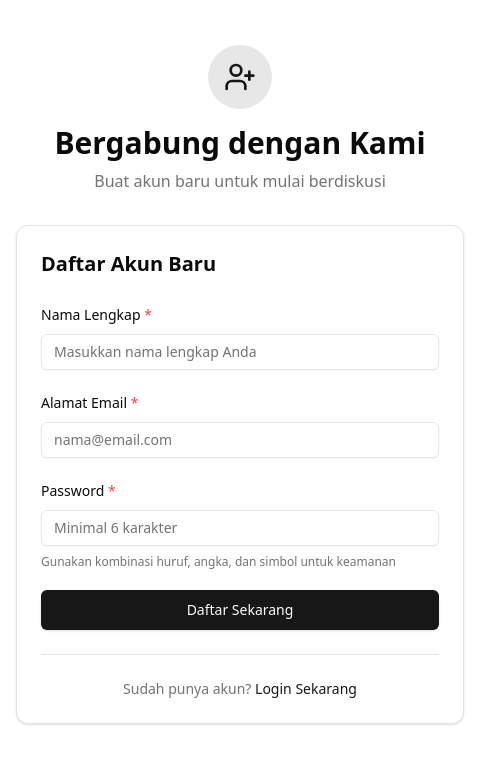
Test: Register spec › should display error when registration fails
The width and height of the screenshot is (481, 784).
Note: Fill all fields
Type "Test User" into the field with id "name" at [240, 352], box [41,334,439,370]
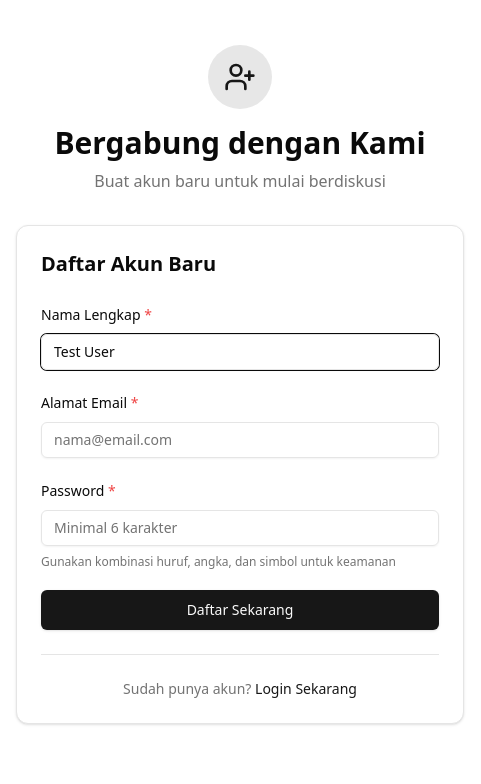
Type "existing@example.com" into the field labelled "Alamat Email *" at [240, 440], box [41,422,439,458]
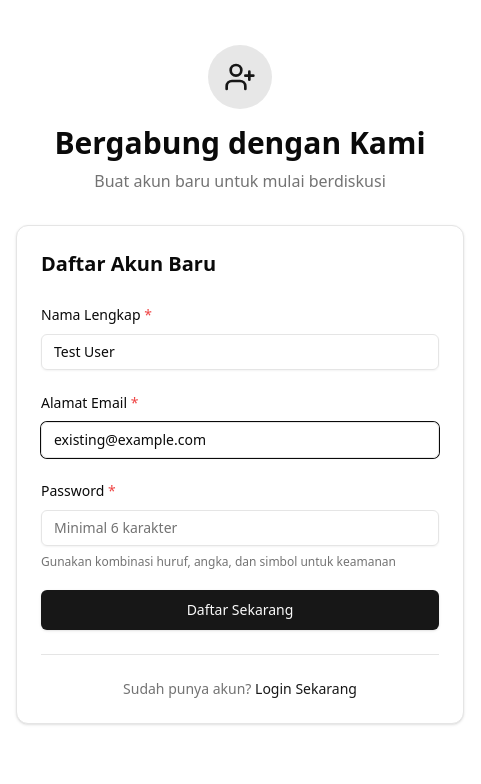
Type "password123" into the password field labelled "Password *" at [240, 528], box [41,510,439,546]
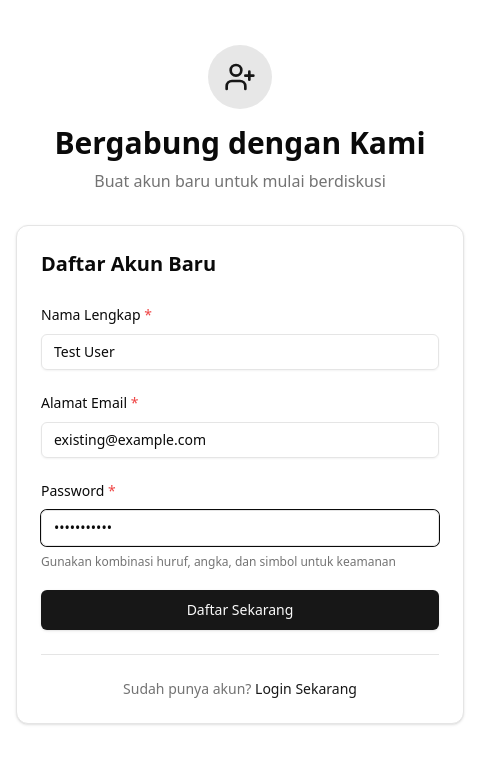
Click the button "Daftar Sekarang" at [240, 610], box [41,590,439,630]
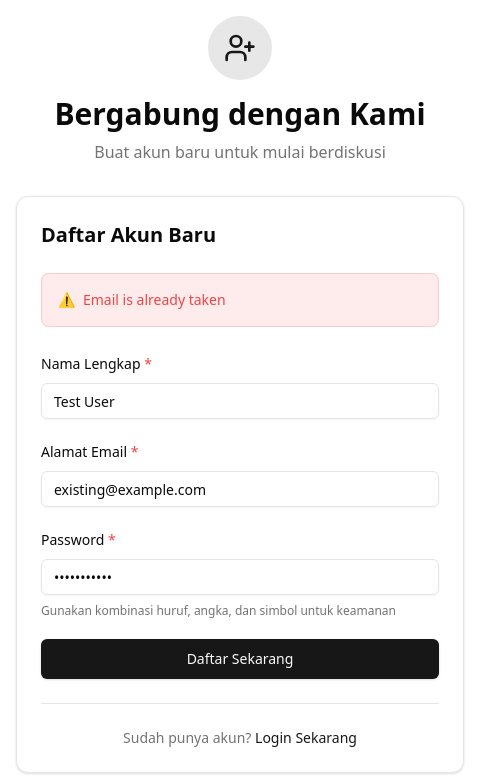
Now the text "Email is already taken" is shown, box [83,290,226,310]
